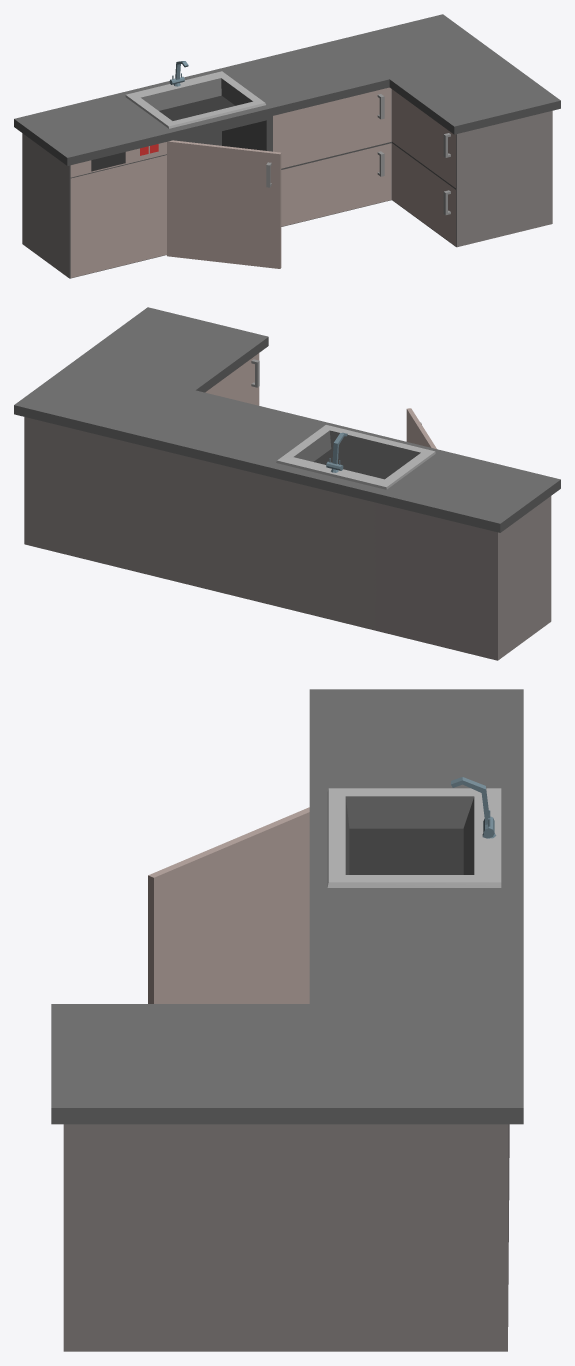
Rendered from kitchen_item_040.fbx.
The picture shows the model from 3 angles, top to bottom: view 1: azimuth 30°, elevation 25°; view 2: azimuth 150°, elevation 25°; view 3: azimuth 270°, elevation 25°; orthographic projection. The views are drawn at different scales.
Visible parts, largest first — view 1: kitchen_item_040; view 2: kitchen_item_040; view 3: kitchen_item_040.
Part boxes in pixels (x1=…): kitchen_item_040: x1=14, y1=14, x2=560, y2=278; kitchen_item_040: x1=14, y1=307, x2=560, y2=660; kitchen_item_040: x1=51, y1=689, x2=523, y2=1351.
Size of the model in its own units: 307 by 146 by 106.
